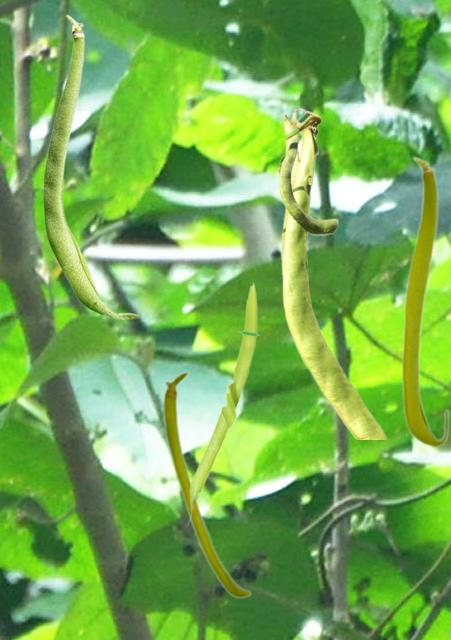french_bean: (277, 108, 386, 438), (43, 14, 138, 319), (162, 370, 251, 598), (186, 279, 259, 526), (400, 155, 449, 447)
